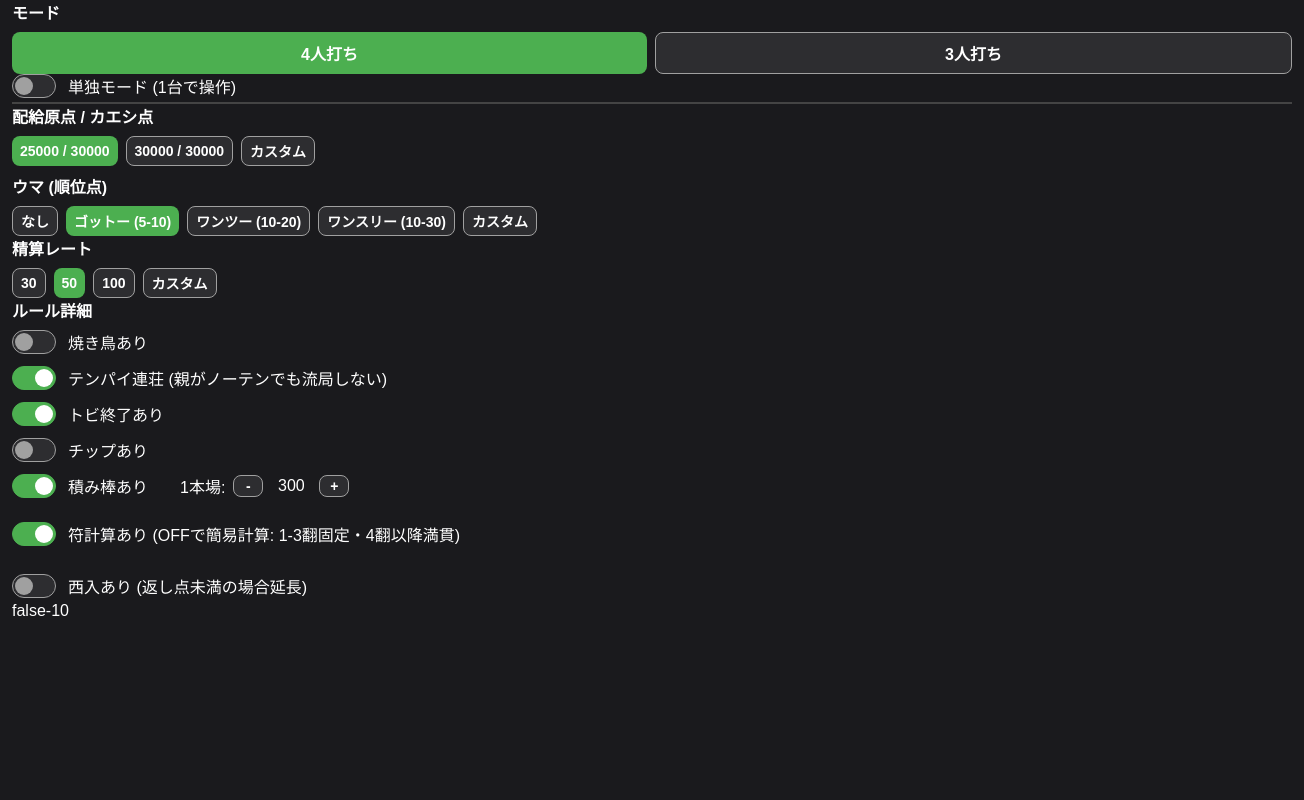
Test: RoomRuleSettings › toggles yakitori and updates yakitori point
Click the checkbox labelled "焼き鳥あり". click: (80, 342)
box: [12,330,148,354]
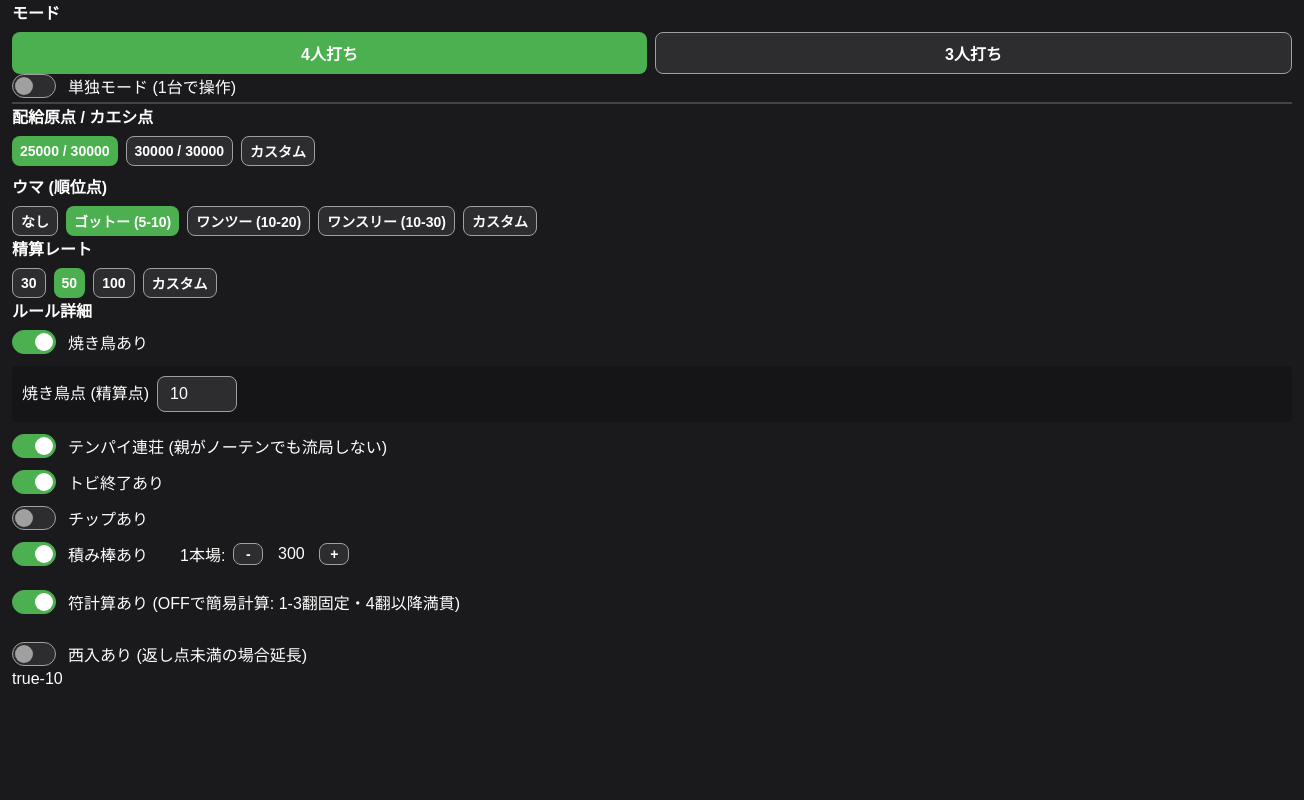
Replace the text in the number field labelled "焼き鳥点 (精算点)" with "20". click: (197, 394)
box: [157,376,237,412]
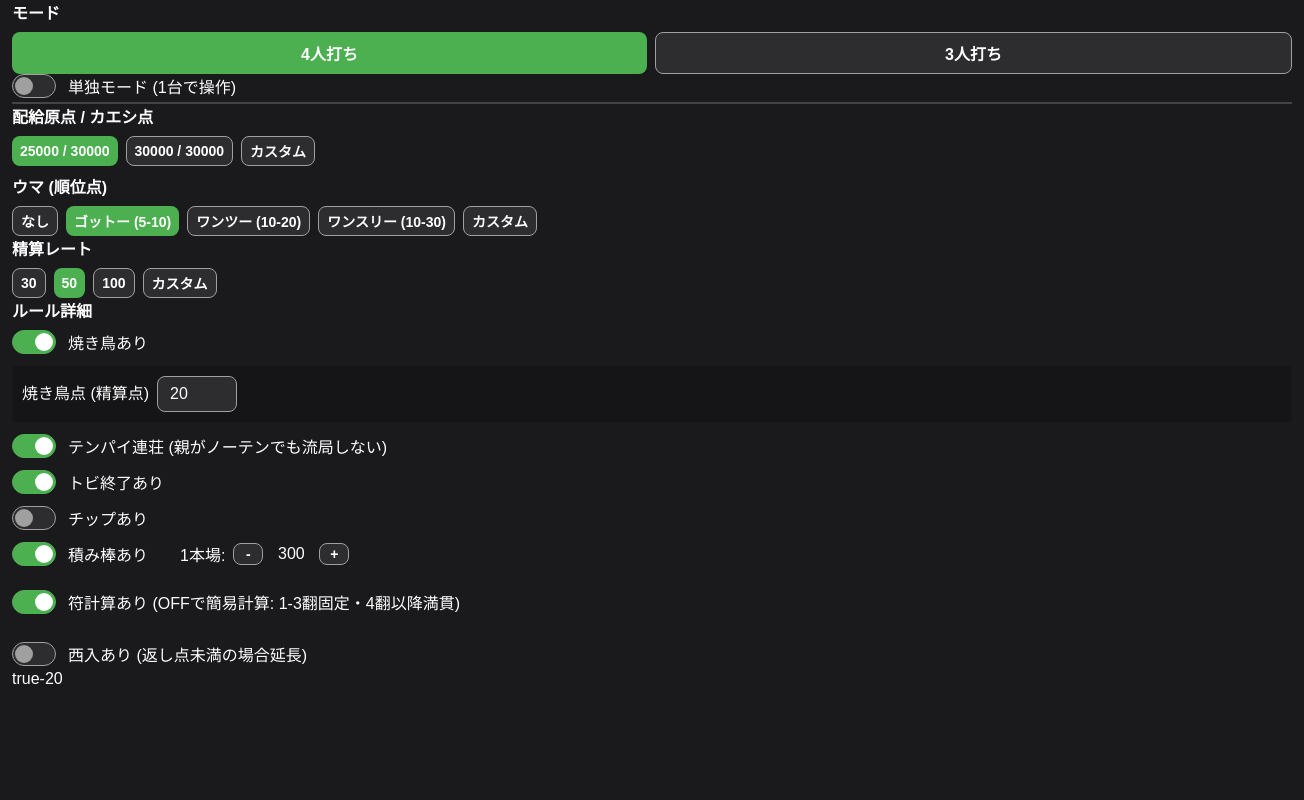
Check: the text with test id "yakitori-value" reads "true-20", box [12,670,63,687]
